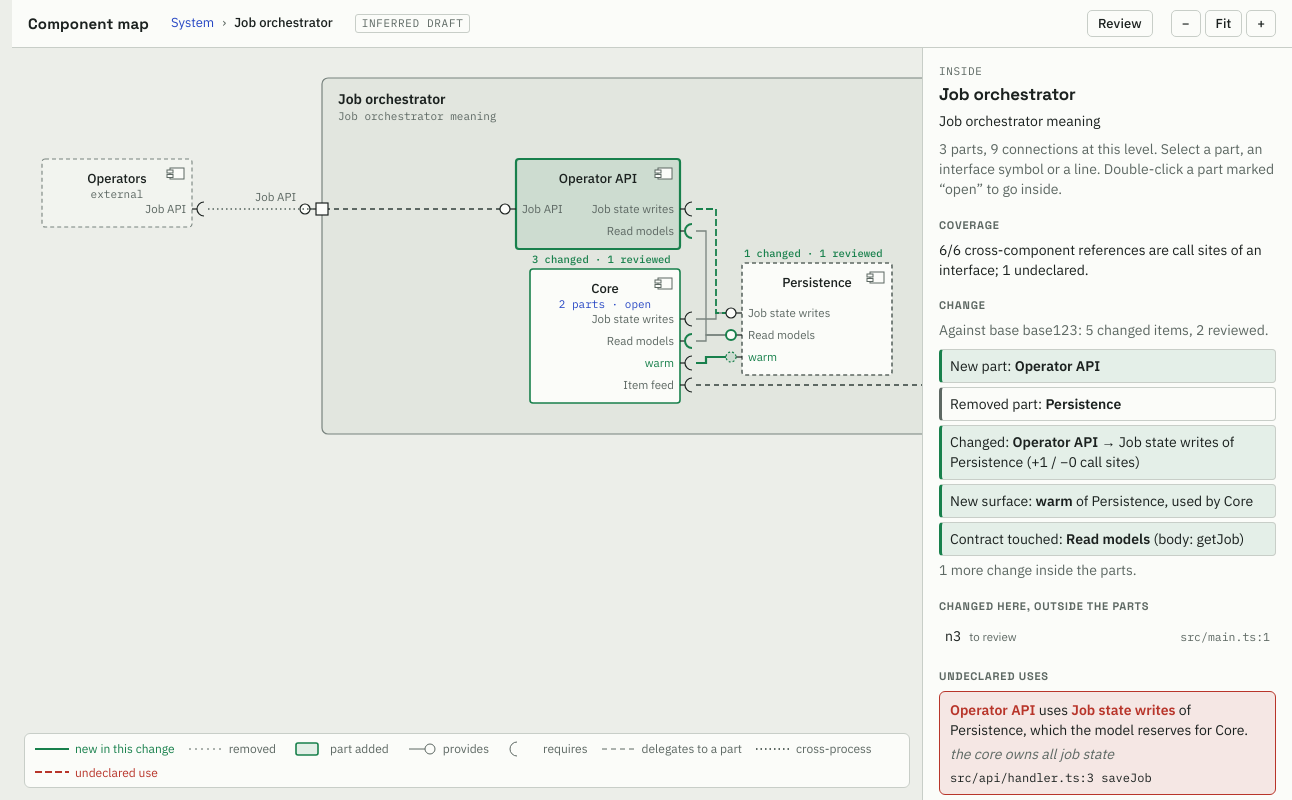
Test case: MapPage levels in a review › marks the parts the change adds or removes
Expected: the element with test id "map-panel" shows "New part: Operator API", [922,48,1291,799]
Expected: the element with test id "map-panel" shows "Removed part: Persistence", [922,48,1291,799]
Click the button "New part: Operator API" at (979, 366), box [939,348,1276,383]
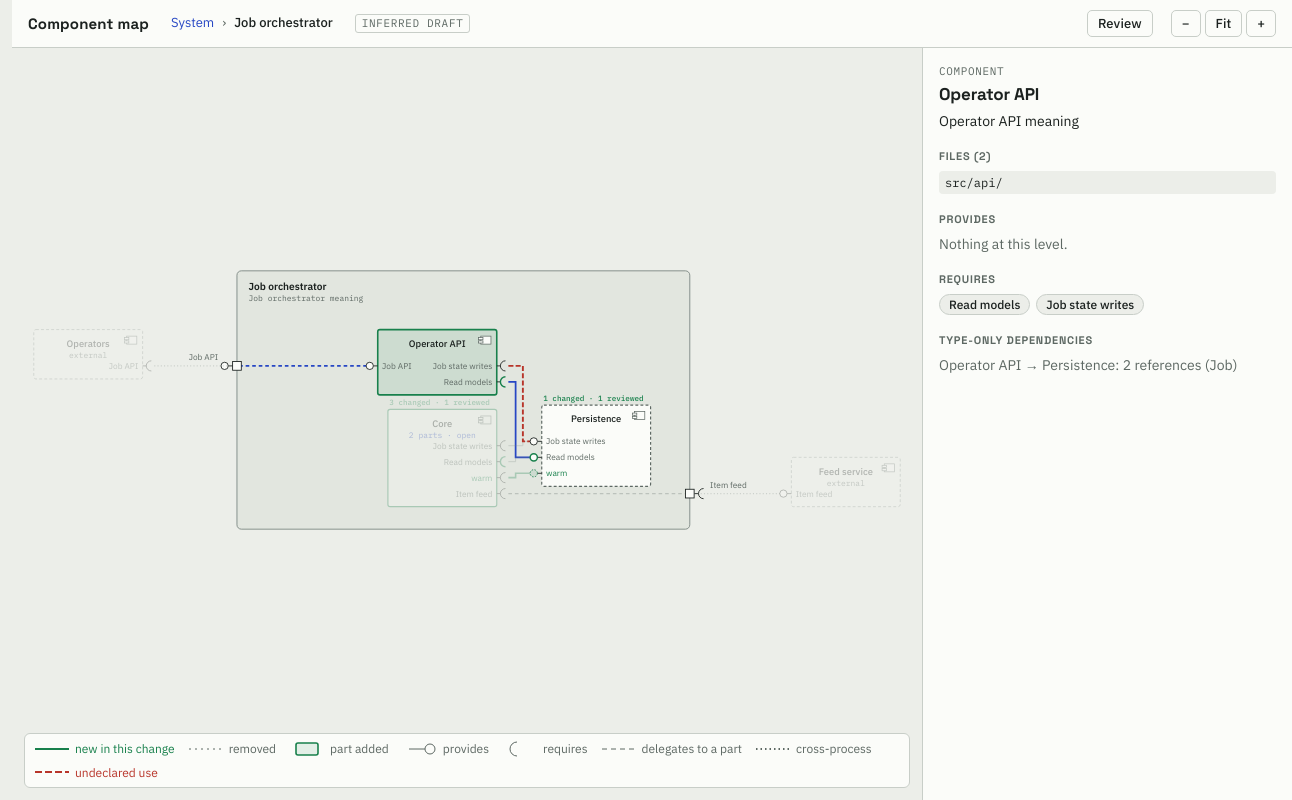
Expected: the element with test id "map-panel" shows "Operator API meaning", [939,112,1079,130]
